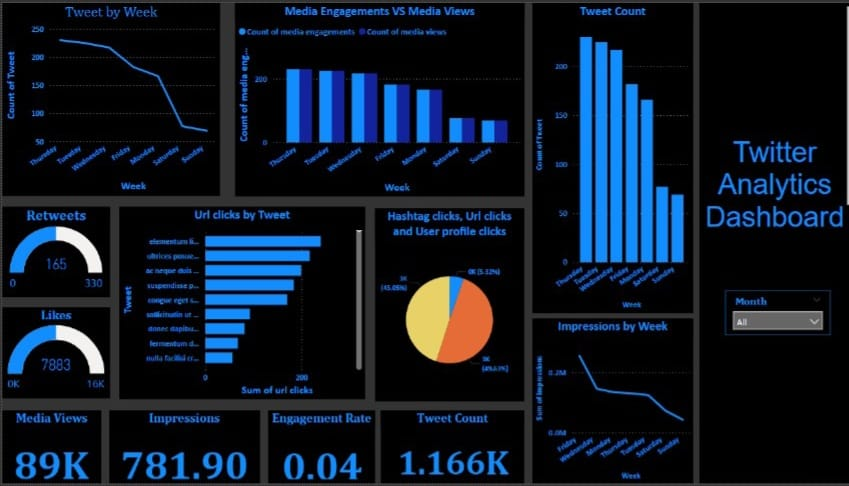

The page's visual inventory and layout, read from the dashboard file:
{"tool":"powerbi","page":{"name":"Page 1","canvas":[1280,720],"ordinal":0},"visuals":[{"type":"textbox","box":[1045.5,0,234.8,720.2],"z":0},{"type":"cardVisual","title":"Media Views","fields":{"Data":["Sum(SocialMedia.media views)"]},"box":[0,610.2,148,110.1],"z":1000},{"type":"cardVisual","title":"Impressions","fields":{"Data":["Avg(SocialMedia.impressions)"]},"box":[160.2,610.2,226.2,110.1],"z":2000},{"type":"cardVisual","title":"Engagement Rate","fields":{"Data":["Avg(SocialMedia.engagement rate)"]},"box":[398.6,610.2,160.2,110.1],"z":3000},{"type":"cardVisual","title":"Tweet Count","fields":{"Data":["CountNonNull(SocialMedia.Tweet)"]},"box":[567.4,610.2,215.2,110.1],"z":4000},{"type":"gauge","title":"Likes","fields":{"Y":["Sum(SocialMedia.likes)"]},"box":[0,456.1,161.4,135.7],"z":5000},{"type":"gauge","title":"Retweets","fields":{"Y":["Max(SocialMedia.retweets)"]},"box":[0,304.5,161.4,135.7],"z":6000},{"type":"slicer","title":"Month","fields":{"Values":["SocialMedia.Month"]},"box":[1083.3,430,158.3,68.3],"z":7000},{"type":"lineChart","title":"Tweet by Week","fields":{"Category":["SocialMedia.DayWeek"],"Y":["CountNonNull(SocialMedia.Tweet)"]},"box":[0,0,326.5,288.6],"z":8000},{"type":"lineChart","title":"Impressions by Week","fields":{"Category":["SocialMedia.Week"],"Y":["Sum(SocialMedia.impressions)"]},"box":[794.8,472,240.9,248.2],"z":9000},{"type":"clusteredColumnChart","title":"Media Engagements VS Media Views","fields":{"Category":["SocialMedia.Week"],"Y":["CountNonNull(SocialMedia.media engagements)","CountNonNull(SocialMedia.media views)"]},"box":[348.5,0,434.1,289.8],"z":10000},{"type":"clusteredBarChart","title":"Url clicks by Tweet","fields":{"Category":["SocialMedia.Tweet"],"Y":["Sum(SocialMedia.url clicks)"]},"box":[174.9,304.5,369,289],"z":11000},{"type":"pieChart","title":"Hashtag clicks, Url clicks and User profile clicks","fields":{"Y":["Sum(SocialMedia.hashtag clicks)","Sum(SocialMedia.url clicks)","Sum(SocialMedia.user profile clicks)"]},"box":[558.8,306.9,223.8,289.8],"z":12000},{"type":"clusteredColumnChart","title":"Tweet Count","fields":{"Category":["SocialMedia.Week"],"Y":["CountNonNull(SocialMedia.Tweet)"]},"box":[794.8,0,240.9,464.7],"z":13000}]}

Visuals, with their boxes in screenshot pixels (x1, y1, x2, y2), scaled from the page's 1280x720 canvas onto the 849x486 screenshot:
textbox: select_region(693, 0, 848, 485)
"Media Views" cardVisual: select_region(0, 412, 98, 485)
"Impressions" cardVisual: select_region(106, 412, 256, 485)
"Engagement Rate" cardVisual: select_region(264, 412, 371, 485)
"Tweet Count" cardVisual: select_region(376, 412, 519, 485)
"Likes" gauge: select_region(0, 308, 107, 399)
"Retweets" gauge: select_region(0, 206, 107, 297)
"Month" slicer: select_region(719, 290, 824, 336)
"Tweet by Week" lineChart: select_region(0, 0, 217, 195)
"Impressions by Week" lineChart: select_region(527, 319, 687, 485)
"Media Engagements VS Media Views" clusteredColumnChart: select_region(231, 0, 519, 196)
"Url clicks by Tweet" clusteredBarChart: select_region(116, 206, 361, 401)
"Hashtag clicks, Url clicks and User profile clicks" pieChart: select_region(371, 207, 519, 403)
"Tweet Count" clusteredColumnChart: select_region(527, 0, 687, 314)
